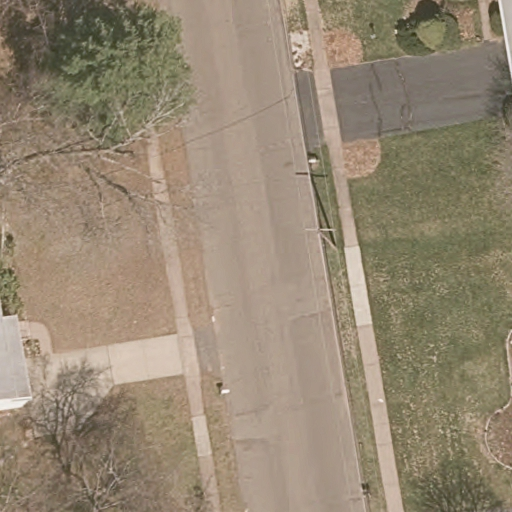DT: (304, 223, 338, 251)
